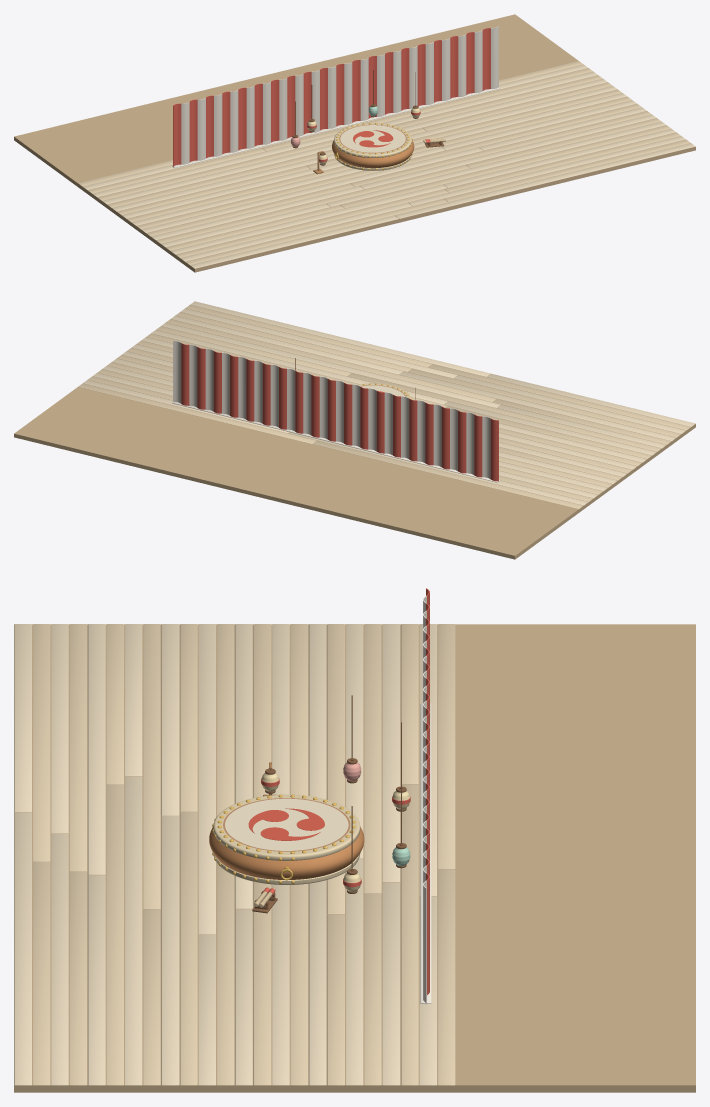
Rendered from taiko_kit.glb.
3 views of the same model, one above another, from view 1: azimuth 30°, elevation 25°; view 2: azimuth 150°, elevation 25°; view 3: azimuth 270°, elevation 25° (orthographic). The views are drawn at different scales.
Visible parts, largest first — view 1: FLOOR, CURTAIN, DRUM; view 2: FLOOR, CURTAIN; view 3: FLOOR, DRUM, CURTAIN, DRUM_Tomoe.
Part boxes in pixels (x1,y1,x2,y2): FLOOR: (14,14,695,272); CURTAIN: (172,26,500,167); DRUM: (332,123,414,170); FLOOR: (14,301,695,559); CURTAIN: (172,341,500,482); FLOOR: (14,624,695,1092); DRUM: (209,794,364,884); CURTAIN: (420,588,431,1004); DRUM_Tomoe: (248,808,324,840).
Bounding box in the file's own units: 80 × 10 × 50.
1 material, 1 textured.
